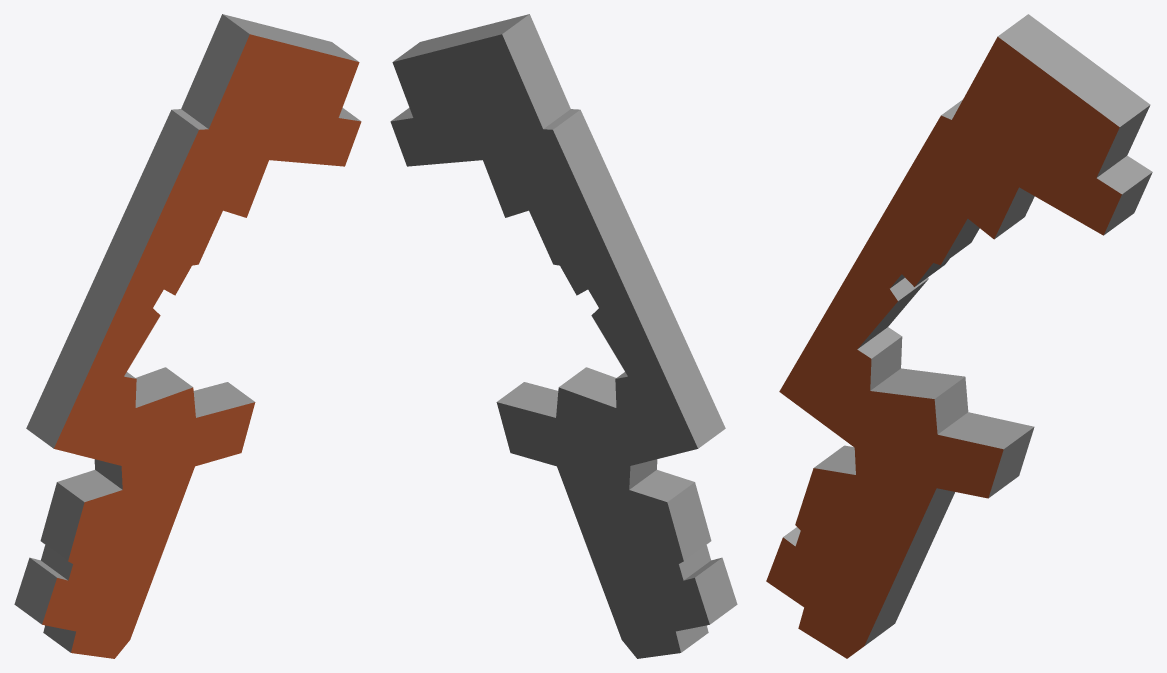
Rendered from construction_2743_assumed_A_Casa_h6m.obj.
The picture shows the model from 3 angles, left to right: view 1: azimuth 30°, elevation 25°; view 2: azimuth 150°, elevation 25°; view 3: azimuth 330°, elevation 25°; orthographic projection. The views are drawn at different scales.
Visible parts, largest first — view 1: construction_2743_assumed_A_Casa; view 2: construction_2743_assumed_A_Casa; view 3: construction_2743_assumed_A_Casa.
Part boxes in pixels (left/top/right/bottom): construction_2743_assumed_A_Casa: left=14, top=14, right=361, bottom=658; construction_2743_assumed_A_Casa: left=390, top=14, right=737, bottom=658; construction_2743_assumed_A_Casa: left=766, top=14, right=1152, bottom=658.
Bounding box in the file's own units: 40.03 × 70.85 × 6.
